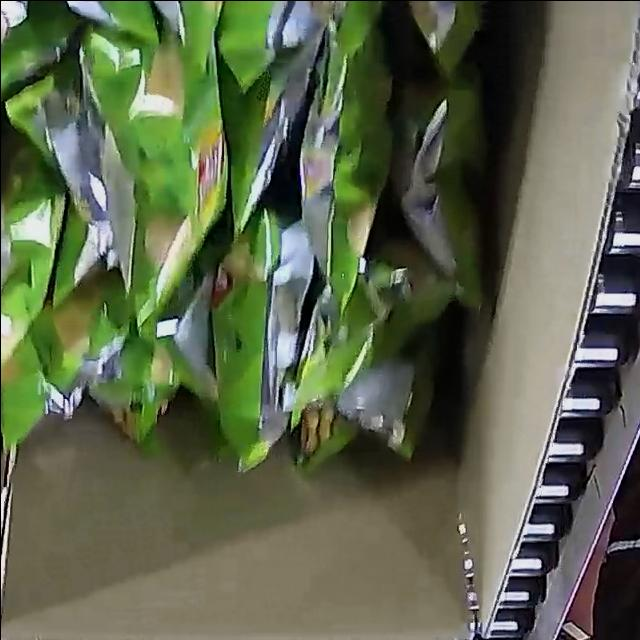yogurt: (0, 0, 494, 478)
